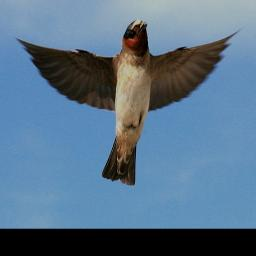Swallow: (14, 18, 244, 187)
